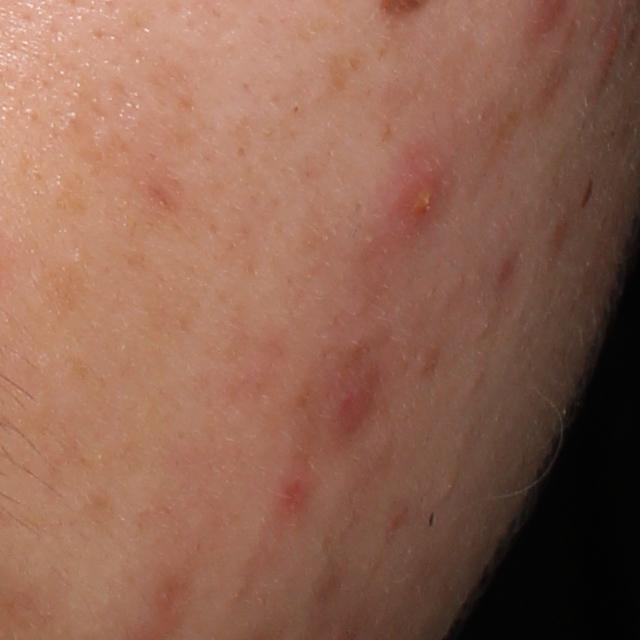papule: (318, 344, 386, 447), (272, 460, 316, 525), (399, 179, 446, 234), (594, 22, 623, 78)
